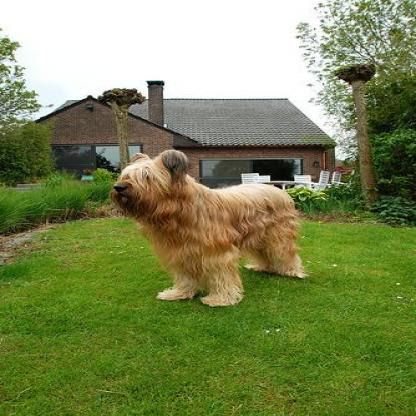briard: (105, 145, 304, 305)
